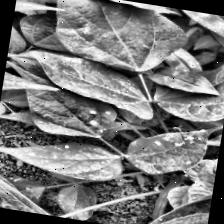Bean Rust: (47, 0, 187, 79), (0, 58, 126, 145), (0, 127, 124, 185), (151, 31, 224, 126), (126, 118, 216, 182), (92, 179, 211, 224)
